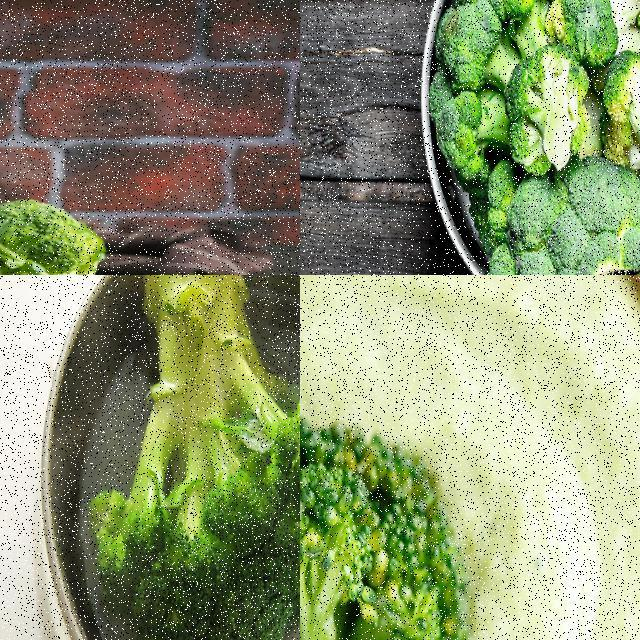broccoli: (91, 275, 299, 639), (300, 407, 475, 639), (426, 0, 556, 181), (502, 40, 591, 176), (538, 0, 616, 66), (591, 0, 639, 100), (605, 52, 639, 166)
